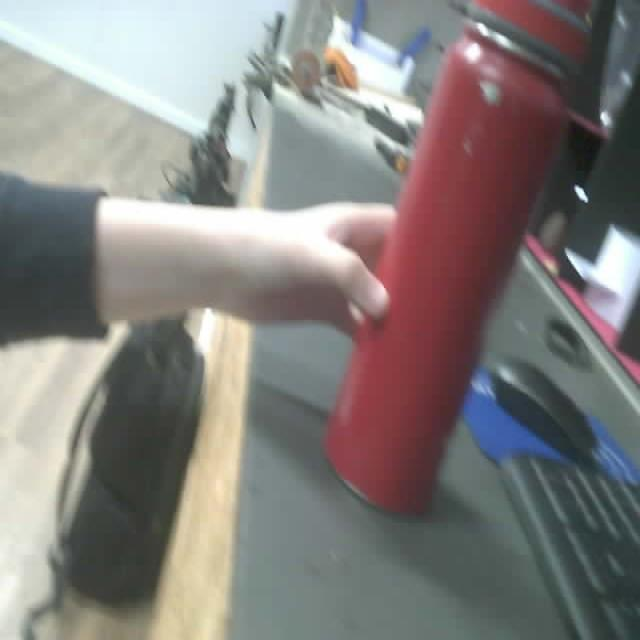water bottle: (319, 0, 606, 515)
